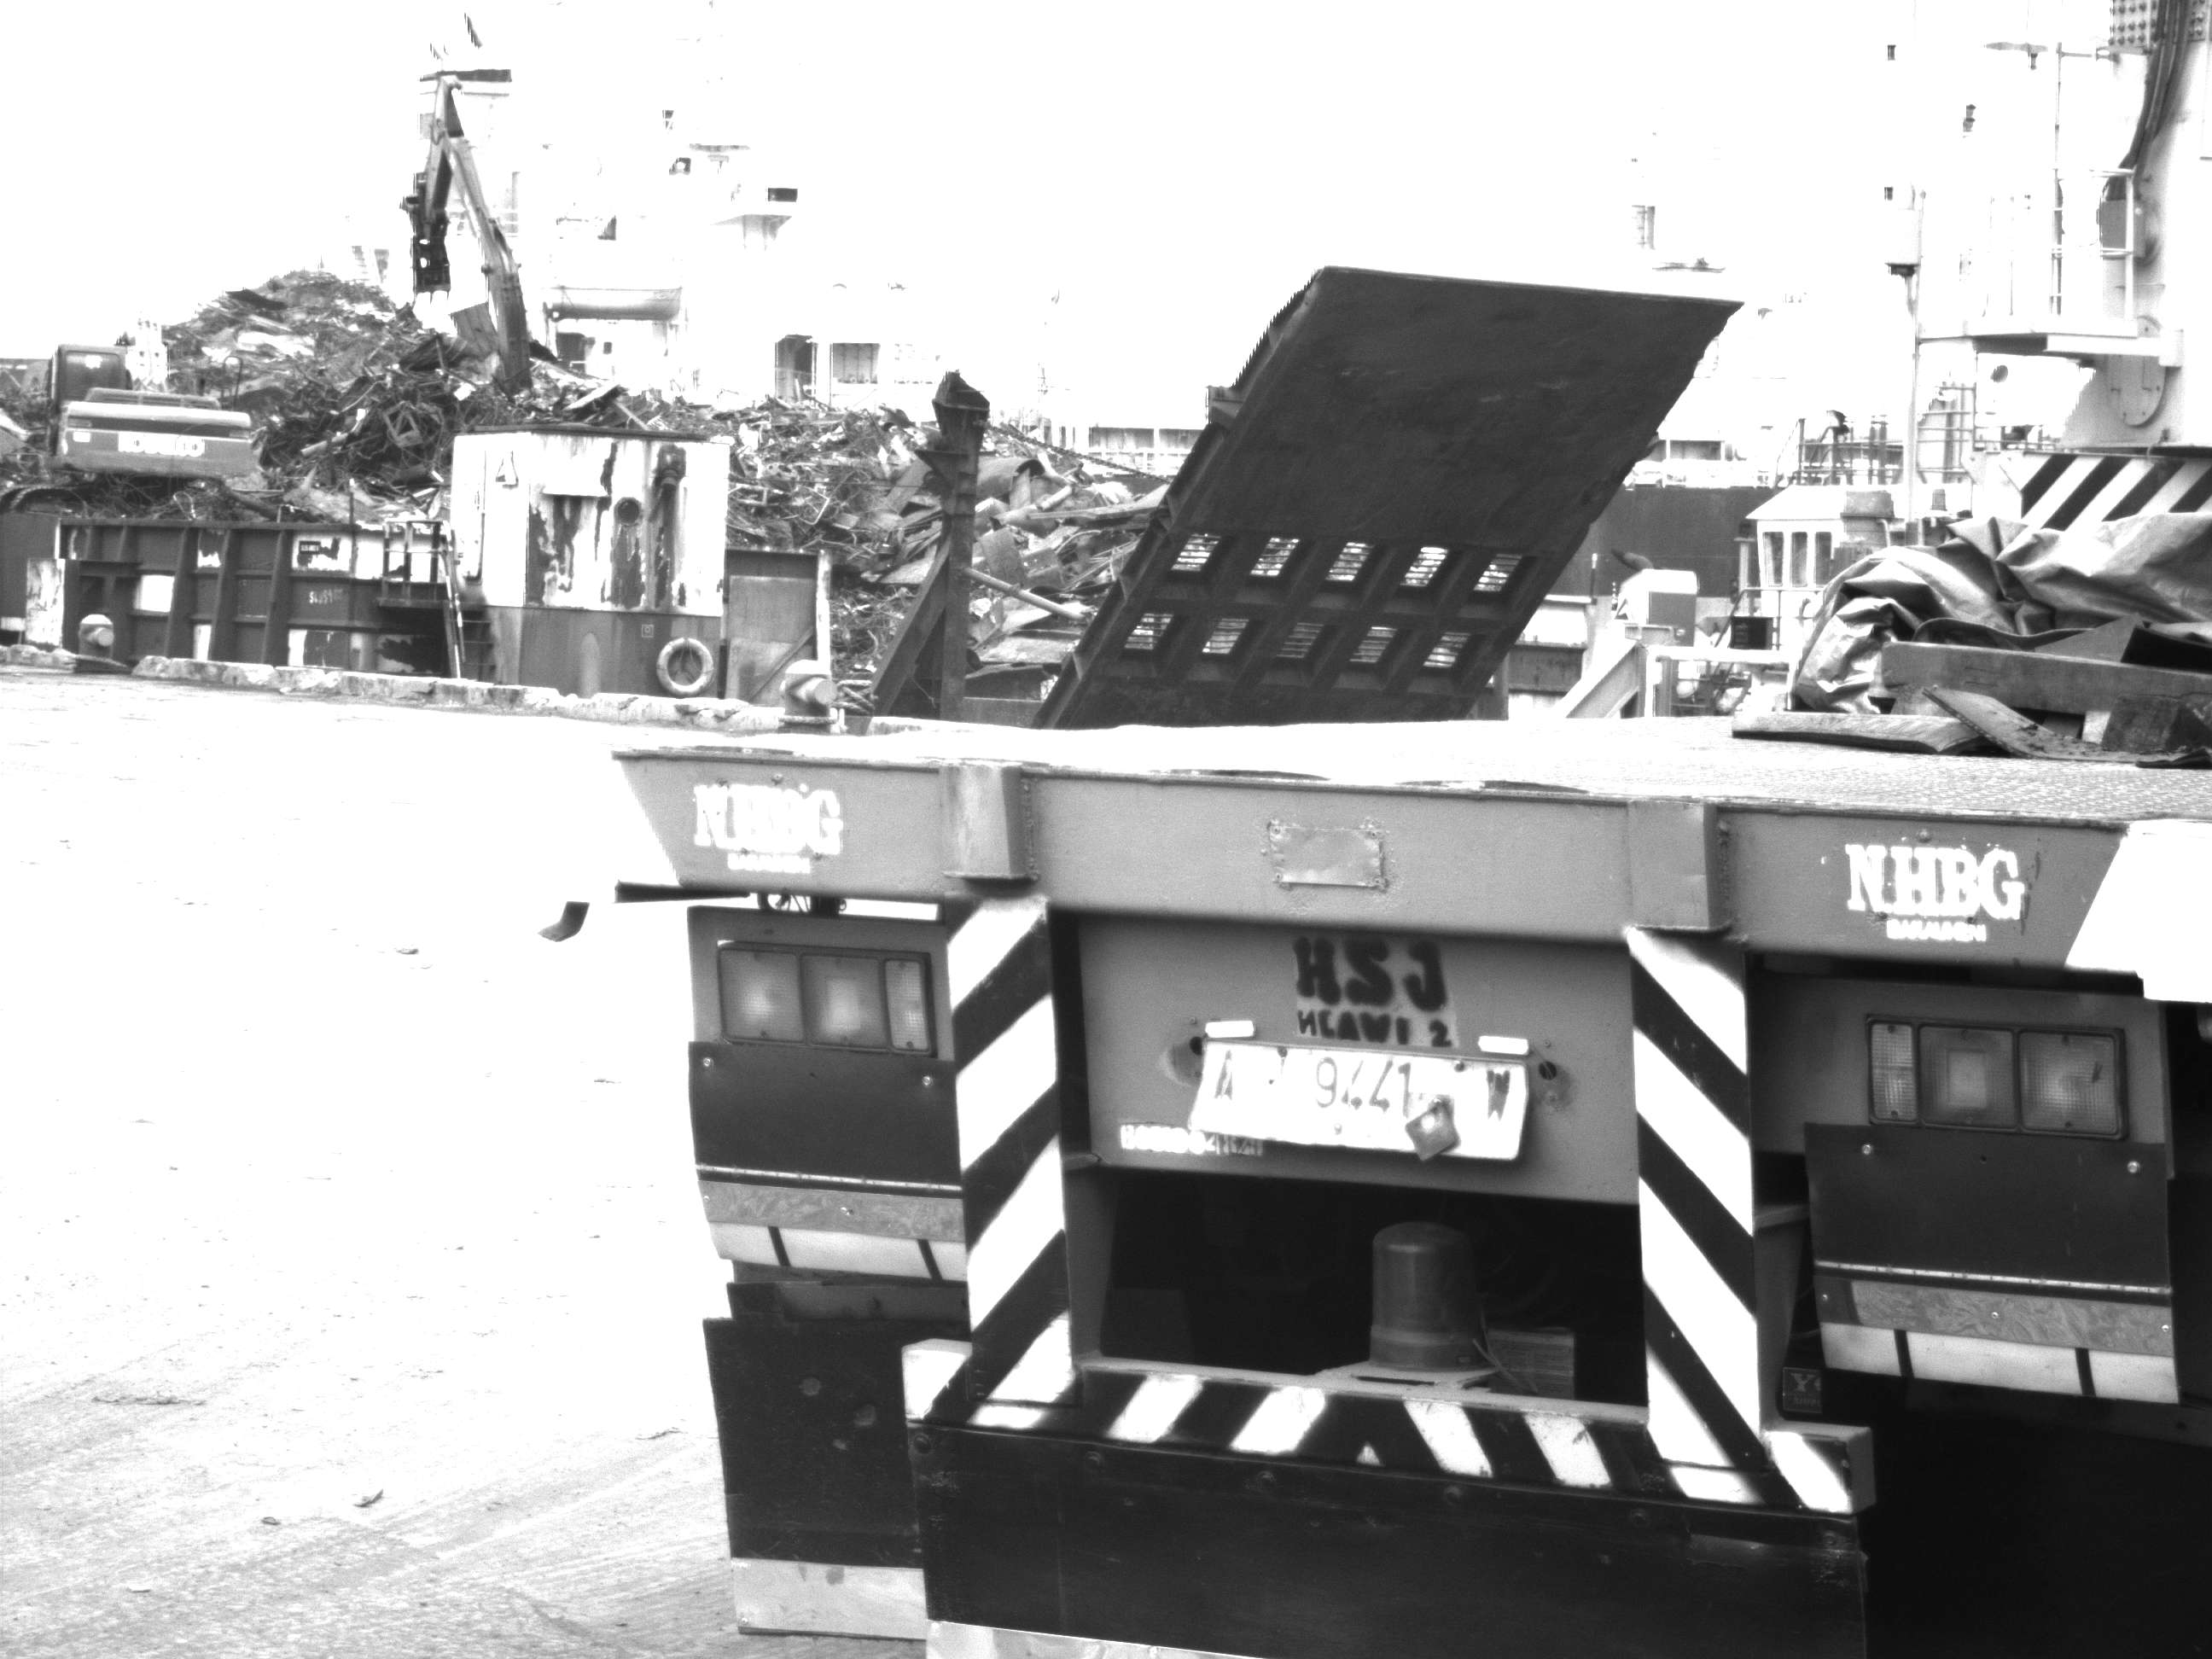day_truck_rear: (596, 722, 2194, 1638)
plate: (1209, 1044, 1524, 1167)
